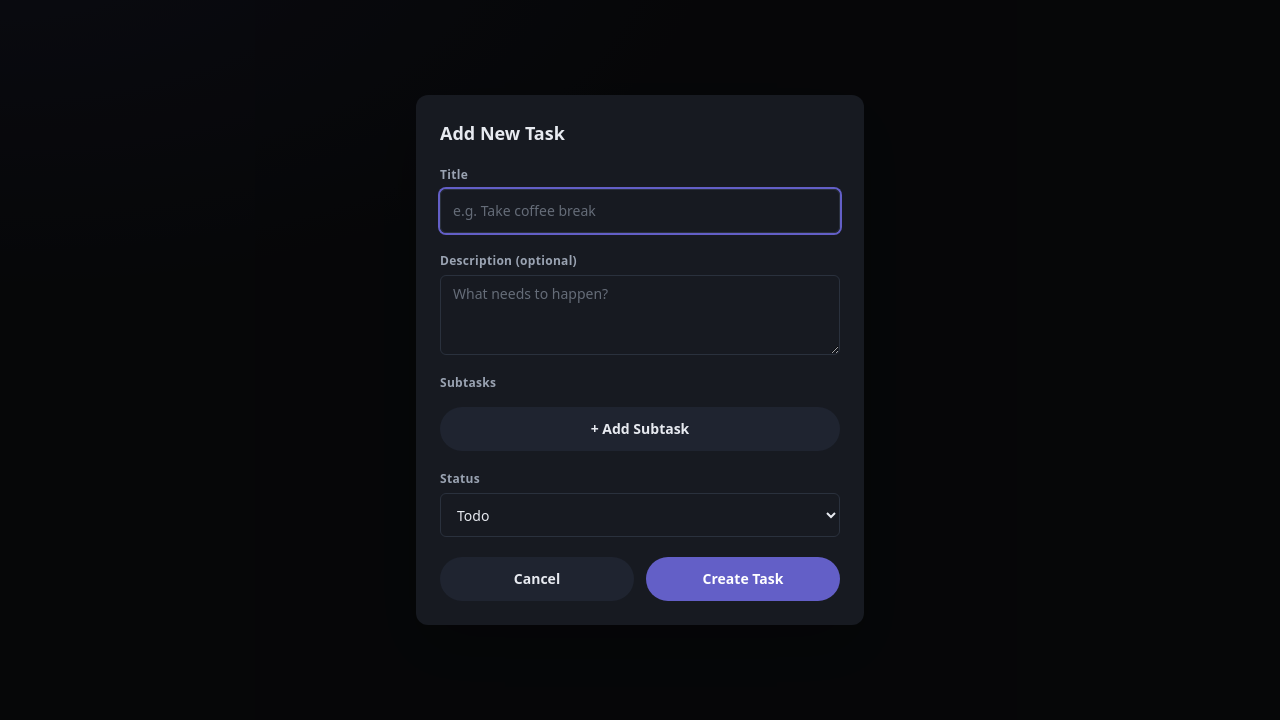
TaskFormModal › requires a title
Click the button "Create Task" at (743, 579), box [646,557,840,601]
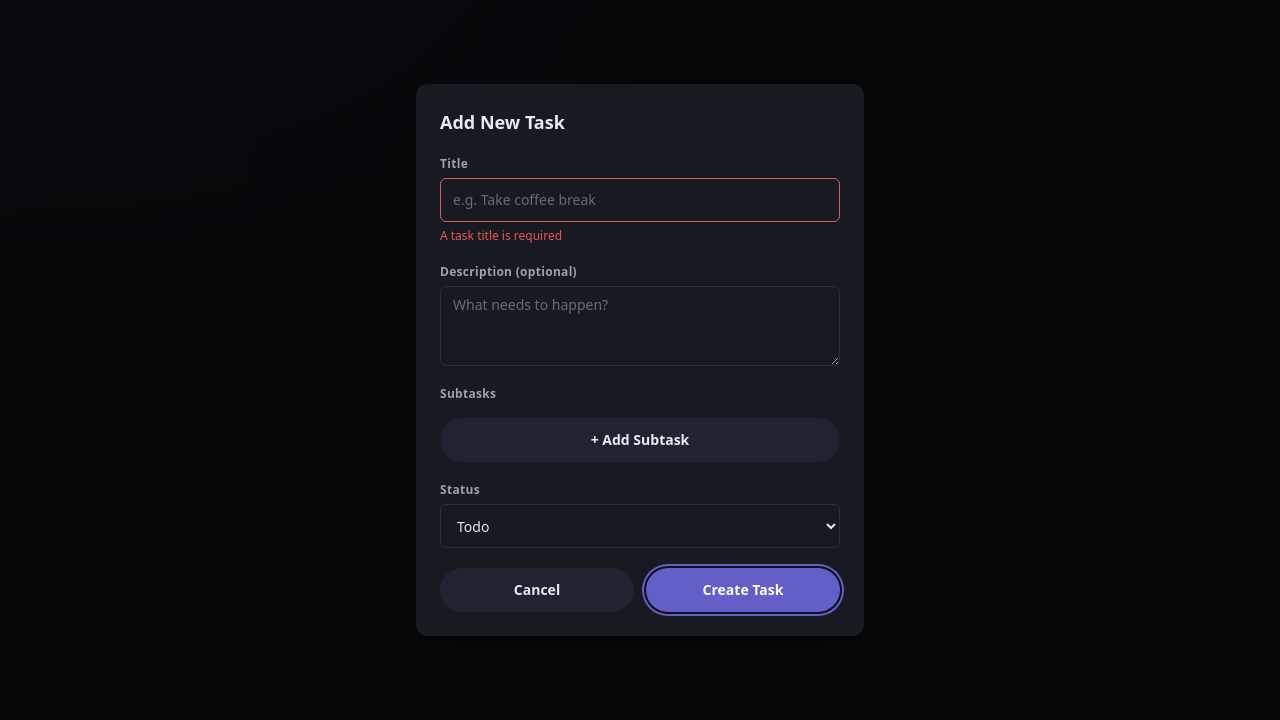
Result: the text "A task title is required" is shown at [440,227,562,244]
